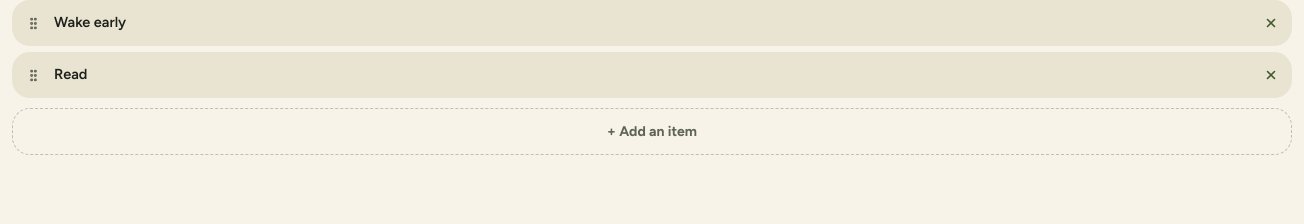
Test: ChecklistSettingsEditor › adds a new item optimistically, with the same id reused on the server for idempotency
This screenshot has width=1304, height=224.
Click the button "+ Add an item": x=652, y=132 [12,108,1292,155]
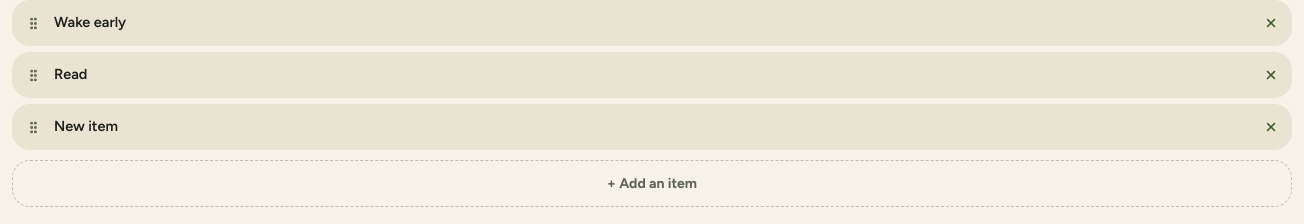
Now the number of fields showing "New item" is 1, box [54,116,1250,138]
